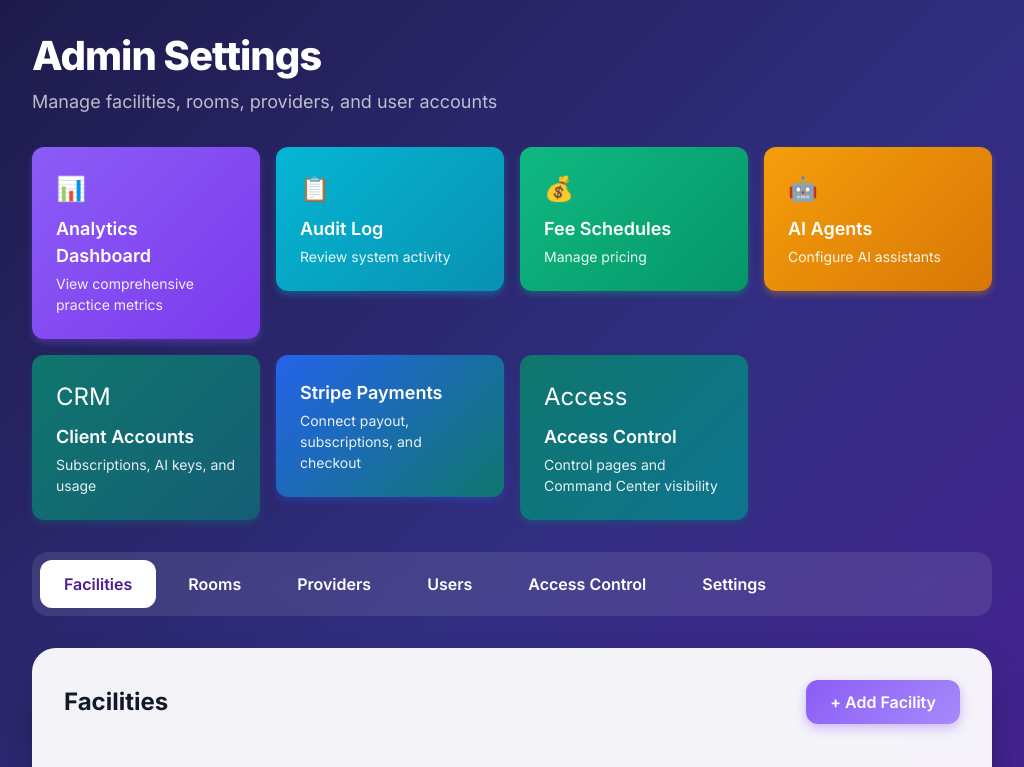
it: AdminPage › should open add facility modal
Click the button "+ Add Facility".
click(883, 702)  # box [806, 680, 960, 724]
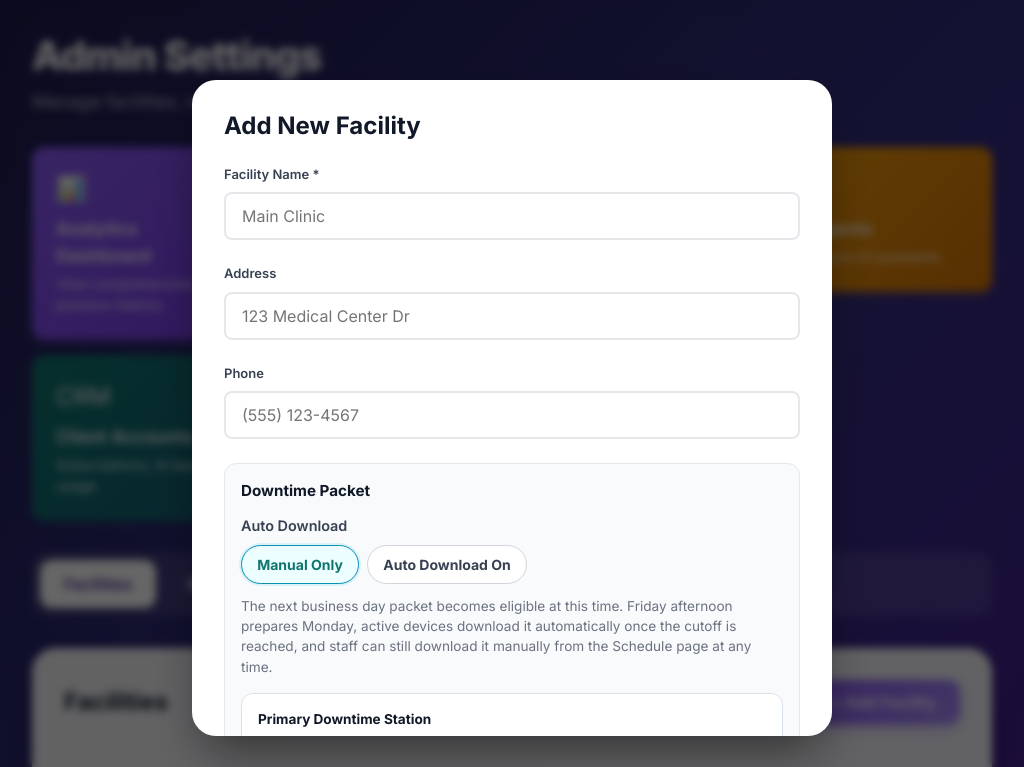
expect the heading "Add New Facility" is shown: met, box [224, 111, 421, 140]
expect the field labelled "Facility Name *" is shown: met, box [224, 192, 800, 240]
